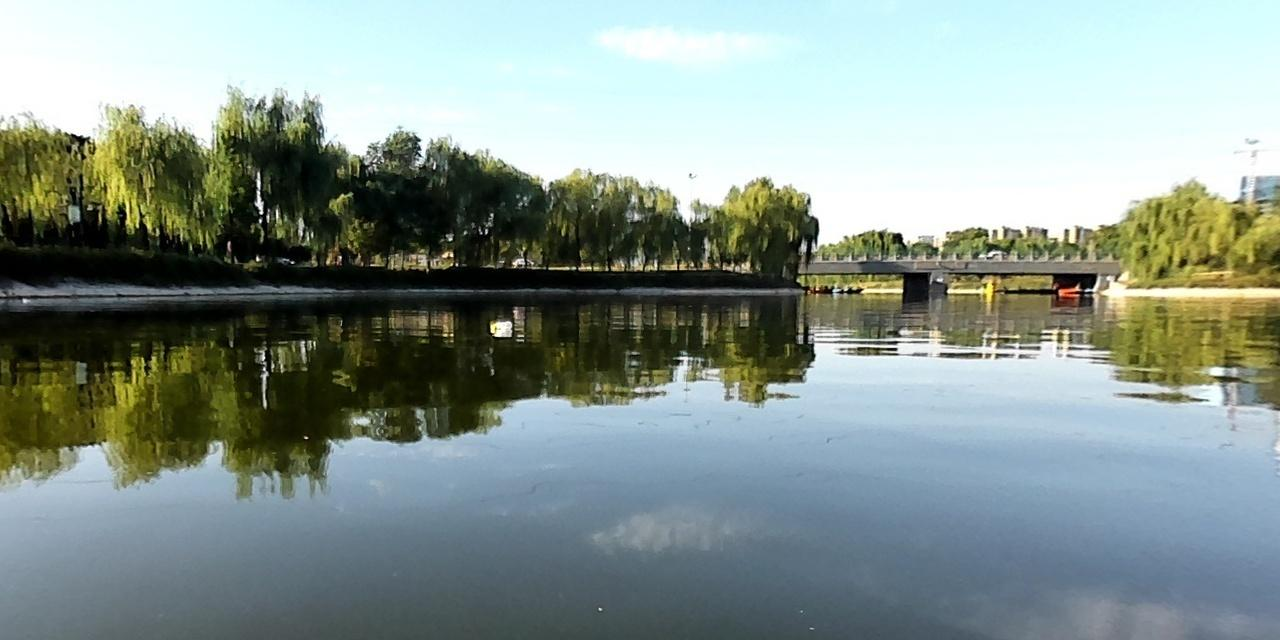bottle: (486, 317, 514, 331)
